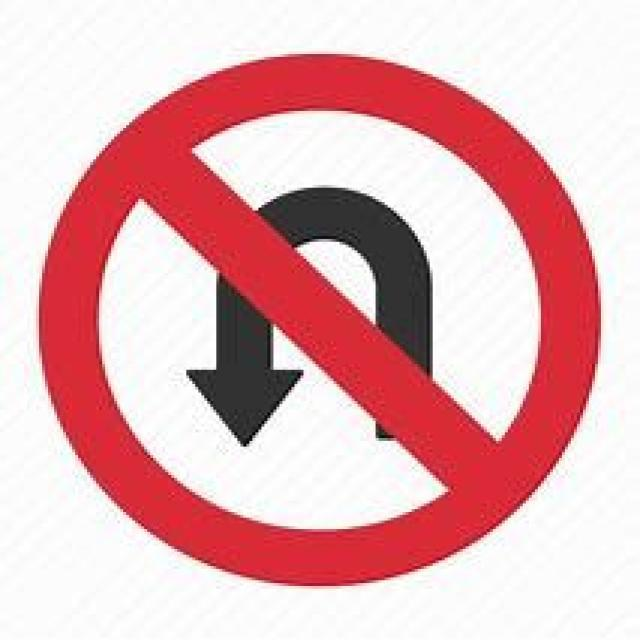u turn prohibited: (37, 43, 604, 590)
